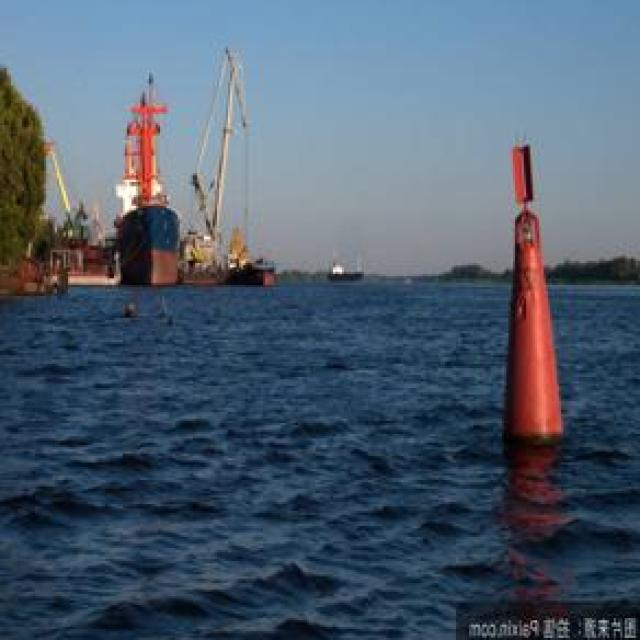buoy: (478, 136, 587, 428)
cargoship: (94, 79, 215, 294)
